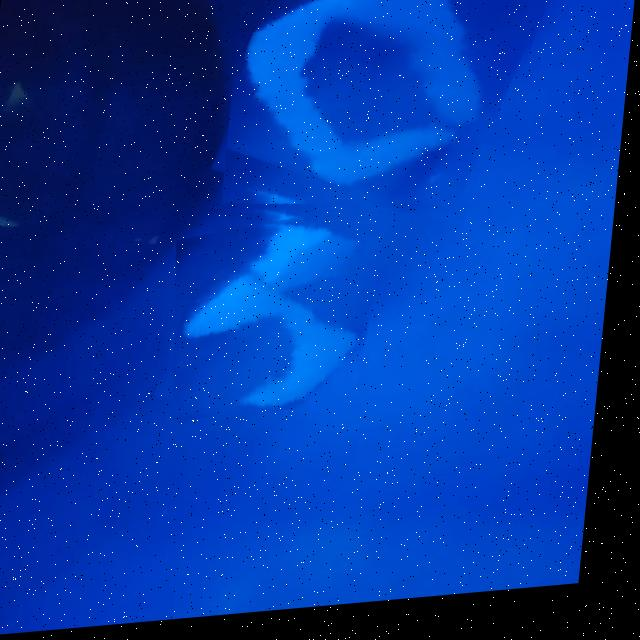thermocoal: (223, 0, 541, 234), (167, 209, 386, 425), (164, 257, 382, 420), (233, 209, 358, 295)
